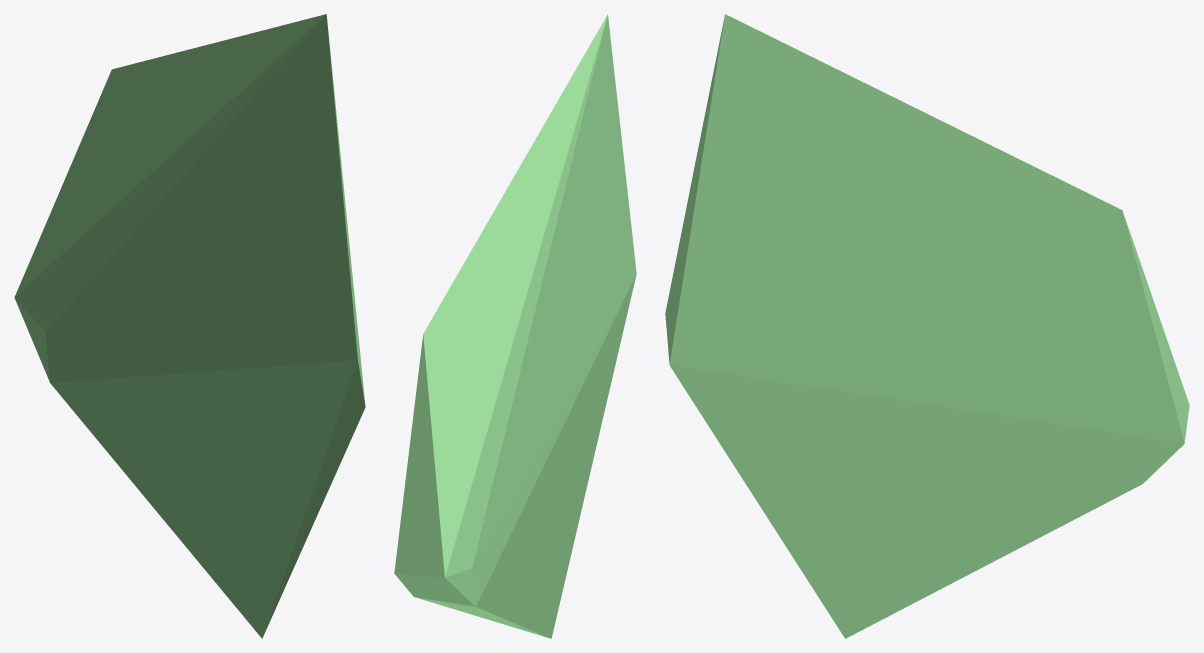
The model's file is linkhou_LR4_R560_link7_respondable_coll_17.dae.
3 renders of one model, left to right at view 1: azimuth 30°, elevation 25°; view 2: azimuth 150°, elevation 25°; view 3: azimuth 270°, elevation 25°, orthographic. The views are drawn at different scales.
Visible parts, largest first — view 1: Node_00000209DB3A90B0; view 2: Node_00000209DB3A90B0; view 3: Node_00000209DB3A90B0.
Part boxes in pixels (bbox=[...]): Node_00000209DB3A90B0: bbox=[14, 14, 365, 638]; Node_00000209DB3A90B0: bbox=[394, 14, 636, 638]; Node_00000209DB3A90B0: bbox=[665, 14, 1189, 638].
Size of the model in its own units: 0.0035 by 0.0315 by 0.024.
